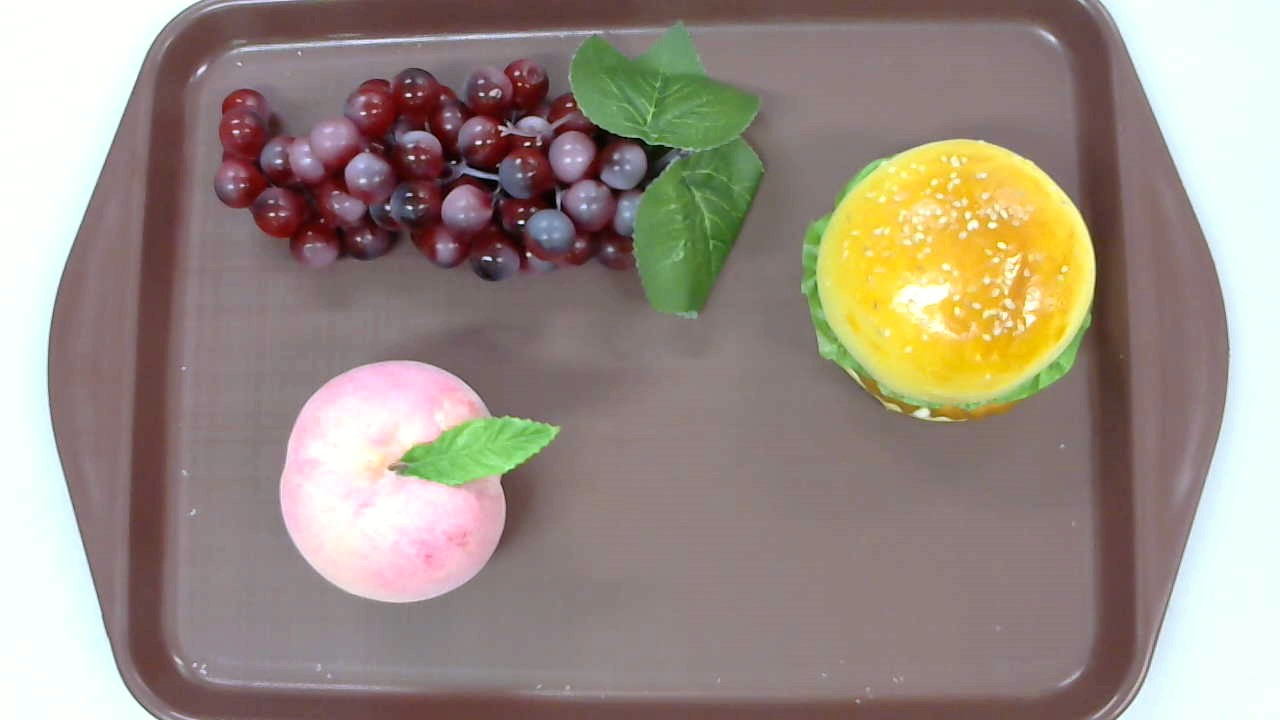grape: (213, 19, 764, 318)
hamburger: (802, 139, 1097, 422)
peach: (278, 360, 560, 602)
